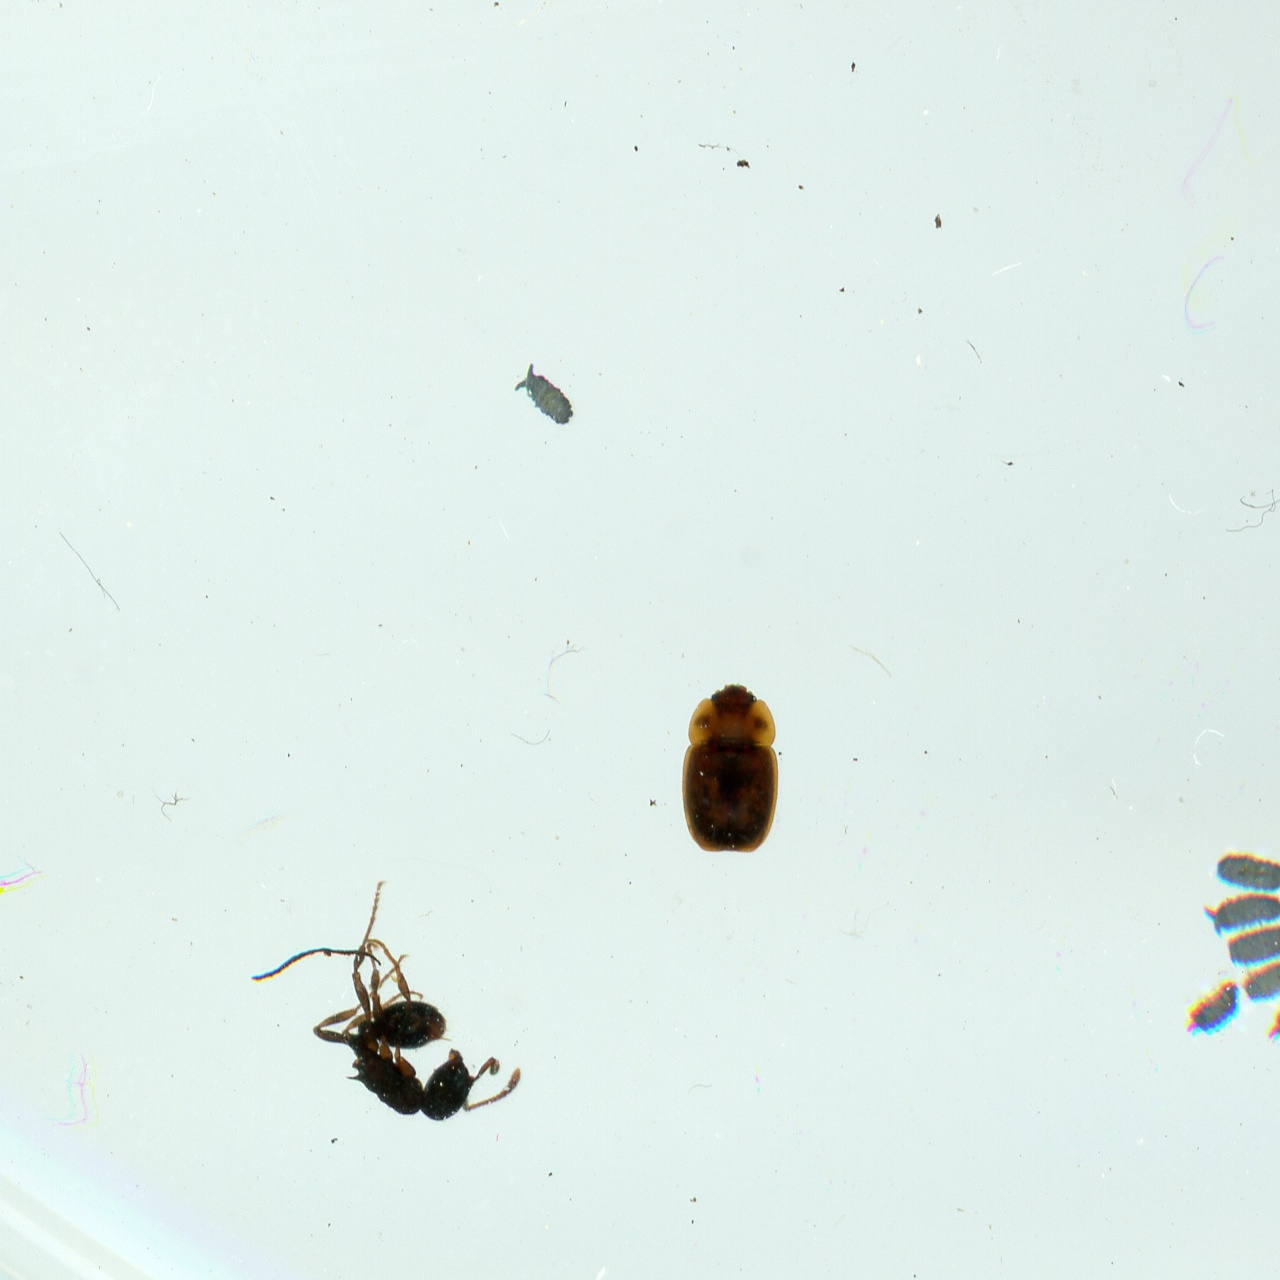arthropod: (245, 879, 527, 1126), (676, 679, 788, 862), (1171, 967, 1253, 1053), (511, 356, 576, 427), (1201, 886, 1280, 939), (1220, 917, 1280, 973), (1212, 846, 1280, 896), (1235, 949, 1280, 1009), (1257, 969, 1280, 1060)
